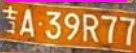A: (20, 9, 34, 37)
